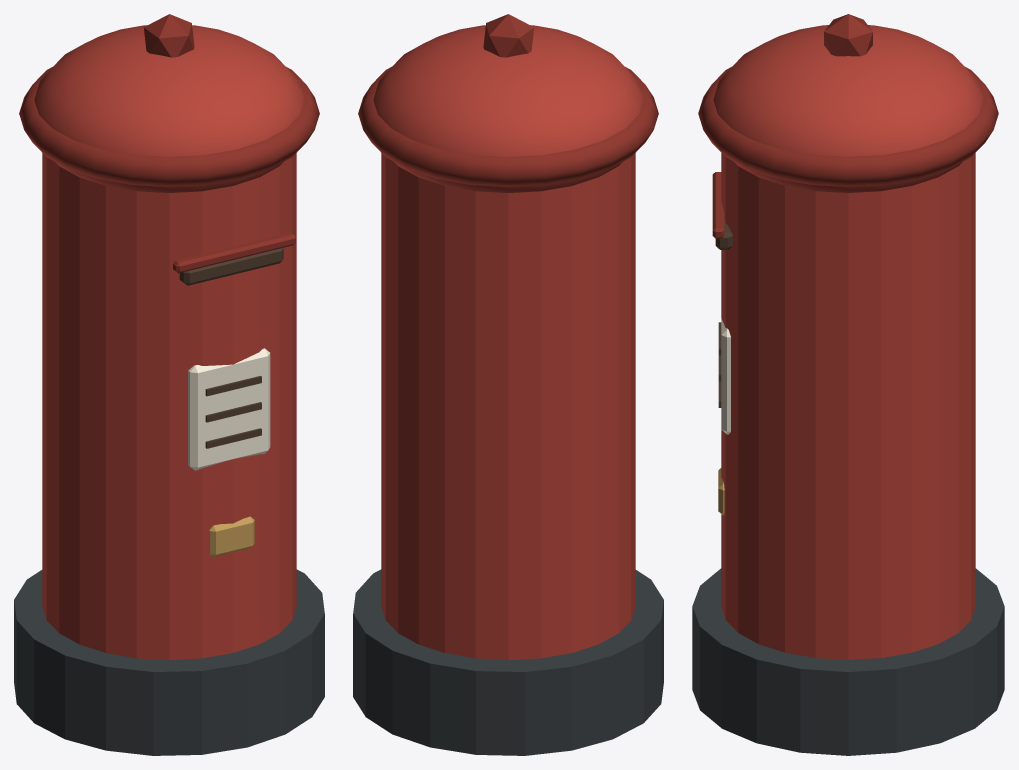
3 renders of one model, left to right at view 1: azimuth 30°, elevation 25°; view 2: azimuth 150°, elevation 25°; view 3: azimuth 270°, elevation 25°, orthographic.
Visible parts, largest first — view 1: lane_red, lane_iron, lane_red_dark, lane_white, lane_ink, lane_brass; view 2: lane_red, lane_iron, lane_red_dark; view 3: lane_red, lane_iron, lane_red_dark, lane_white, lane_ink.
Part boxes in pixels (<box>): lane_red: <box>34,25,304,660</box>; lane_iron: <box>14,569,324,755</box>; lane_red_dark: <box>19,14,319,273</box>; lane_white: <box>188,348,270,470</box>; lane_ink: <box>179,248,283,448</box>; lane_brass: <box>209,516,254,556</box>; lane_red: <box>373,25,643,660</box>; lane_iron: <box>353,569,663,755</box>; lane_red_dark: <box>358,14,658,186</box>; lane_red: <box>713,25,983,659</box>; lane_iron: <box>692,568,1004,755</box>; lane_red_dark: <box>698,14,998,238</box>; lane_white: <box>721,318,730,434</box>; lane_ink: <box>715,220,732,407</box>.
Bounding box in the file's own units: 0.54 × 1.29 × 0.54.
